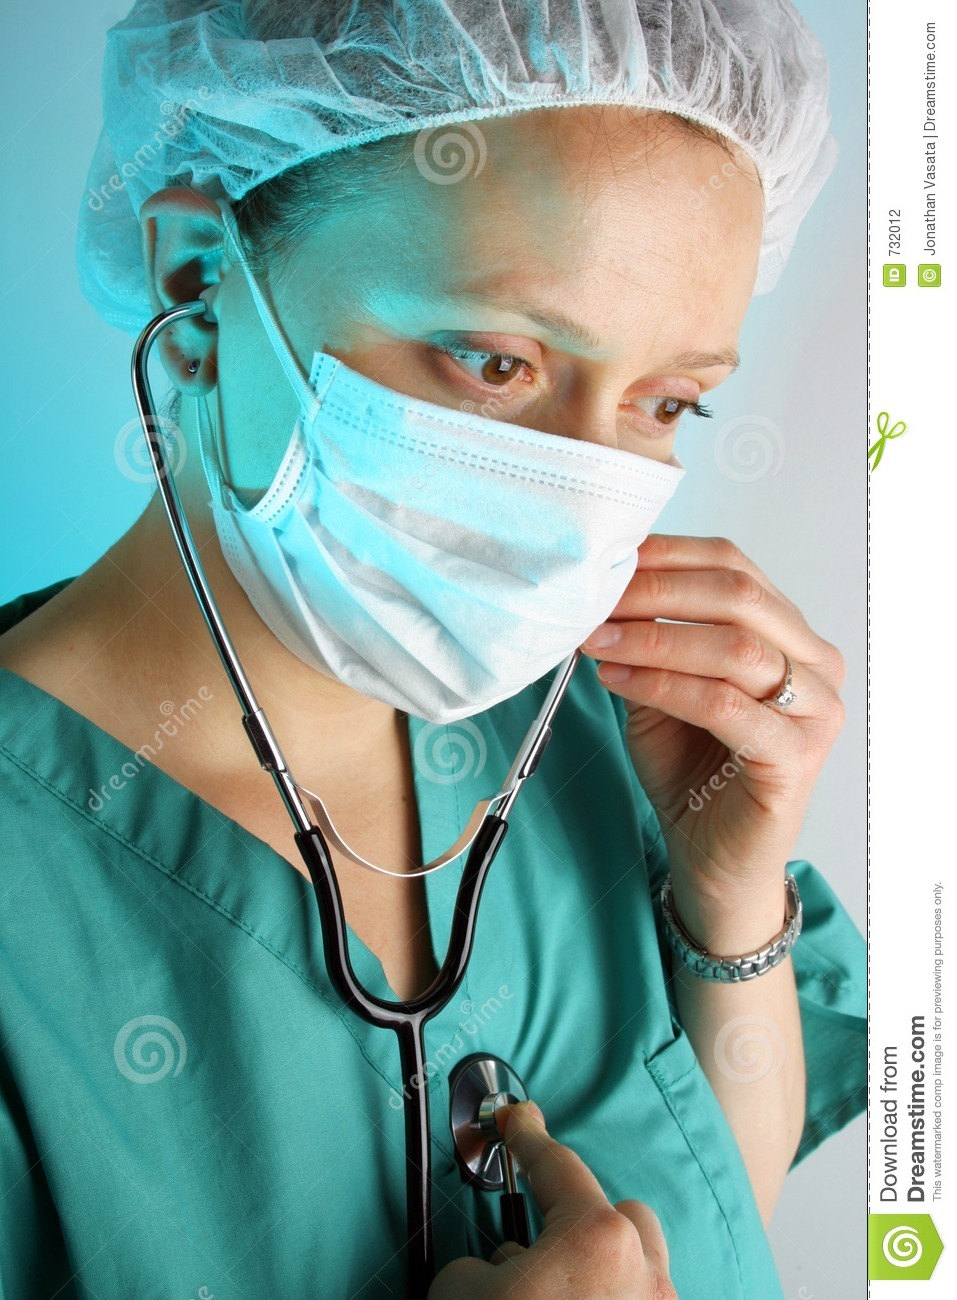mask: (213, 370, 680, 720)
